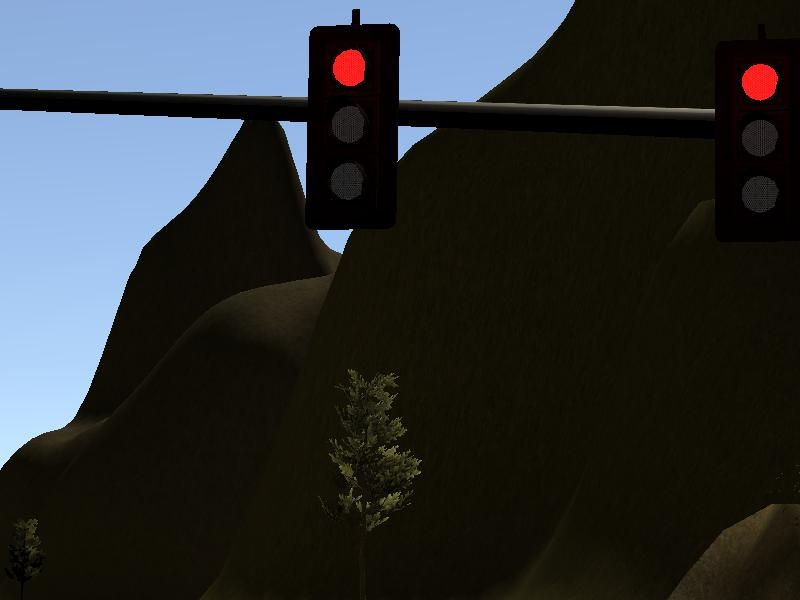RED: (297, 13, 408, 240)
